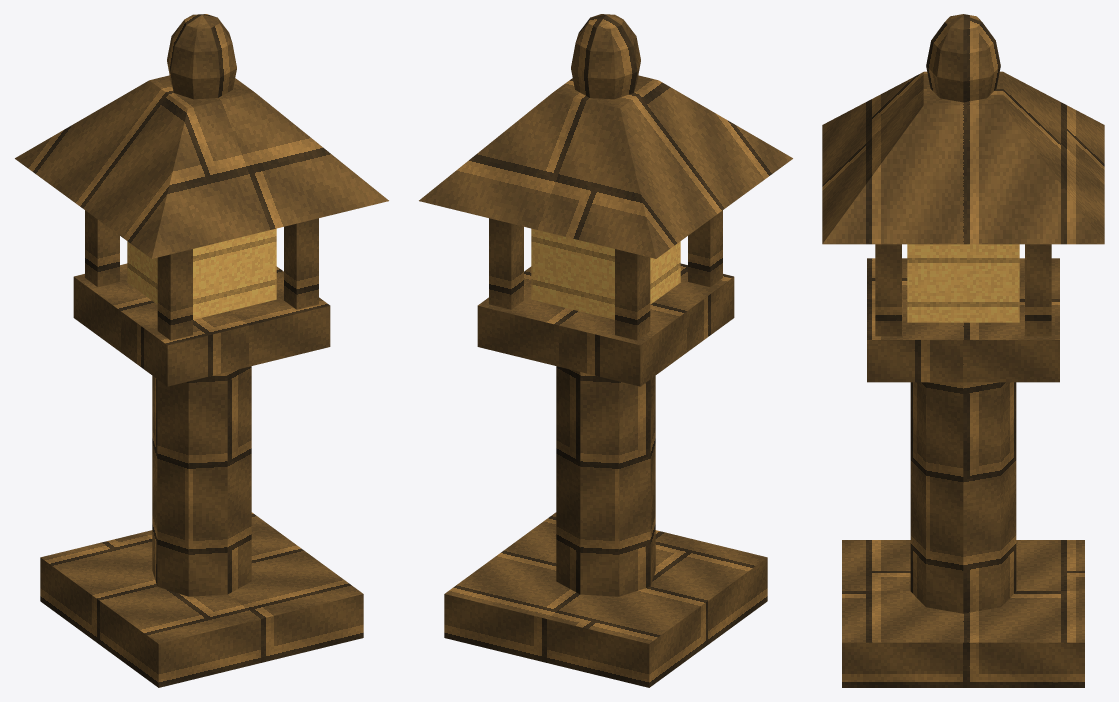
The model's file is stone_lantern.glb.
The picture shows the model from 3 angles, left to right: view 1: azimuth 30°, elevation 25°; view 2: azimuth 150°, elevation 25°; view 3: azimuth 270°, elevation 25°; orthographic projection. The views are drawn at different scales.
Visible parts, largest first — view 1: stone_lantern; view 2: stone_lantern; view 3: stone_lantern.
Part boxes in pixels (left/top/right/bottom): stone_lantern: left=15, top=14, right=388, bottom=687; stone_lantern: left=419, top=14, right=792, bottom=687; stone_lantern: left=822, top=14, right=1104, bottom=687.
Bounding box in the file's own units: 0.9051 × 2.2 × 0.9051.
Materials: 2 (2 with a texture image).
